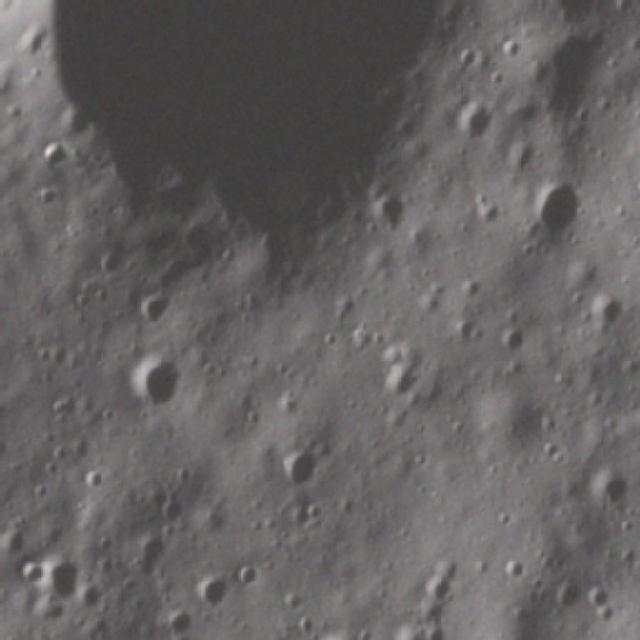crater: (7, 0, 456, 271), (473, 378, 552, 460), (520, 166, 589, 248), (121, 348, 190, 417), (374, 346, 431, 406), (123, 526, 179, 580), (496, 129, 550, 185), (271, 444, 326, 498), (40, 551, 88, 609), (510, 0, 619, 25), (586, 462, 636, 516), (445, 96, 493, 152), (555, 251, 603, 298), (368, 187, 410, 236), (282, 493, 324, 539), (580, 575, 618, 623), (29, 138, 72, 180), (190, 564, 227, 611), (136, 287, 176, 330), (587, 288, 624, 334), (549, 572, 588, 614), (449, 310, 488, 352), (161, 598, 199, 640), (495, 320, 533, 362), (412, 284, 450, 325), (51, 108, 91, 146), (414, 567, 452, 607), (465, 195, 504, 233), (274, 382, 308, 424), (445, 39, 481, 78), (299, 624, 382, 640), (230, 554, 261, 594), (144, 478, 173, 520), (73, 577, 104, 615), (12, 558, 46, 590), (499, 551, 530, 586), (501, 31, 532, 64), (84, 460, 111, 495), (37, 183, 65, 212), (606, 0, 640, 22), (389, 620, 426, 640), (94, 248, 121, 275), (48, 438, 70, 467), (319, 325, 339, 350)
